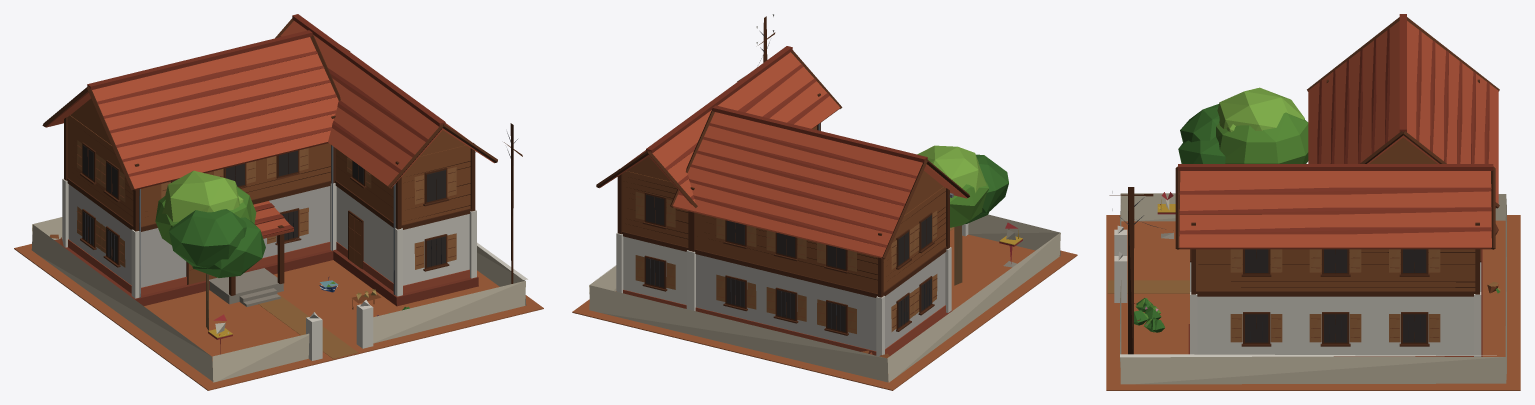
File: home_4.glb
3 renders of one model, left to right at view 1: azimuth 30°, elevation 25°; view 2: azimuth 150°, elevation 25°; view 3: azimuth 270°, elevation 25°, orthographic. The views are drawn at different scales.
Visible parts, largest first — view 1: body, windows; view 2: body, windows; view 3: body, windows.
Boxes of the visible parts, box(x1,y1,x2,y2) form: body: box(14, 14, 543, 390); windows: box(82, 145, 445, 267); body: box(572, 14, 1077, 390); windows: box(646, 194, 931, 331); body: box(1106, 14, 1520, 390); windows: box(1245, 249, 1426, 342).
Bounding box in the file's own units: 15.9 × 9.32 × 15.9.
